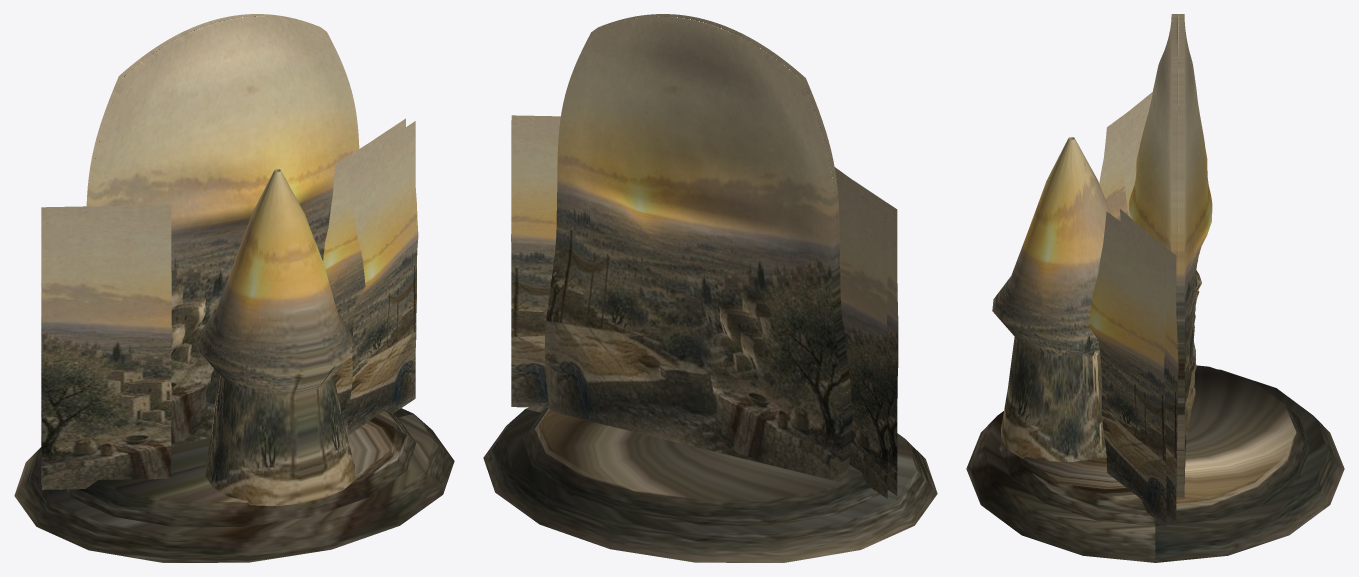
File: psalms-3-31.glb
3 views of the same model, side by side, from view 1: azimuth 30°, elevation 25°; view 2: azimuth 150°, elevation 25°; view 3: azimuth 270°, elevation 25° (orthographic). The views are drawn at different scales.
Visible parts, largest first — view 1: PaintingSculptureMonument; view 2: PaintingSculptureMonument; view 3: PaintingSculptureMonument.
Boxes of the visible parts, x1,y1,x2,y2 form: PaintingSculptureMonument: (14, 14, 454, 562); PaintingSculptureMonument: (483, 14, 937, 562); PaintingSculptureMonument: (966, 14, 1344, 562).
Bounding box in the file's own units: 2.76 × 2.99 × 2.35.
1 material, 1 textured.
